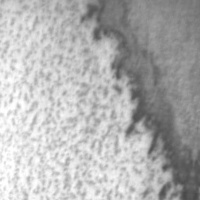patches: (75, 0, 199, 199)
pitted_surface: (0, 0, 173, 199)
